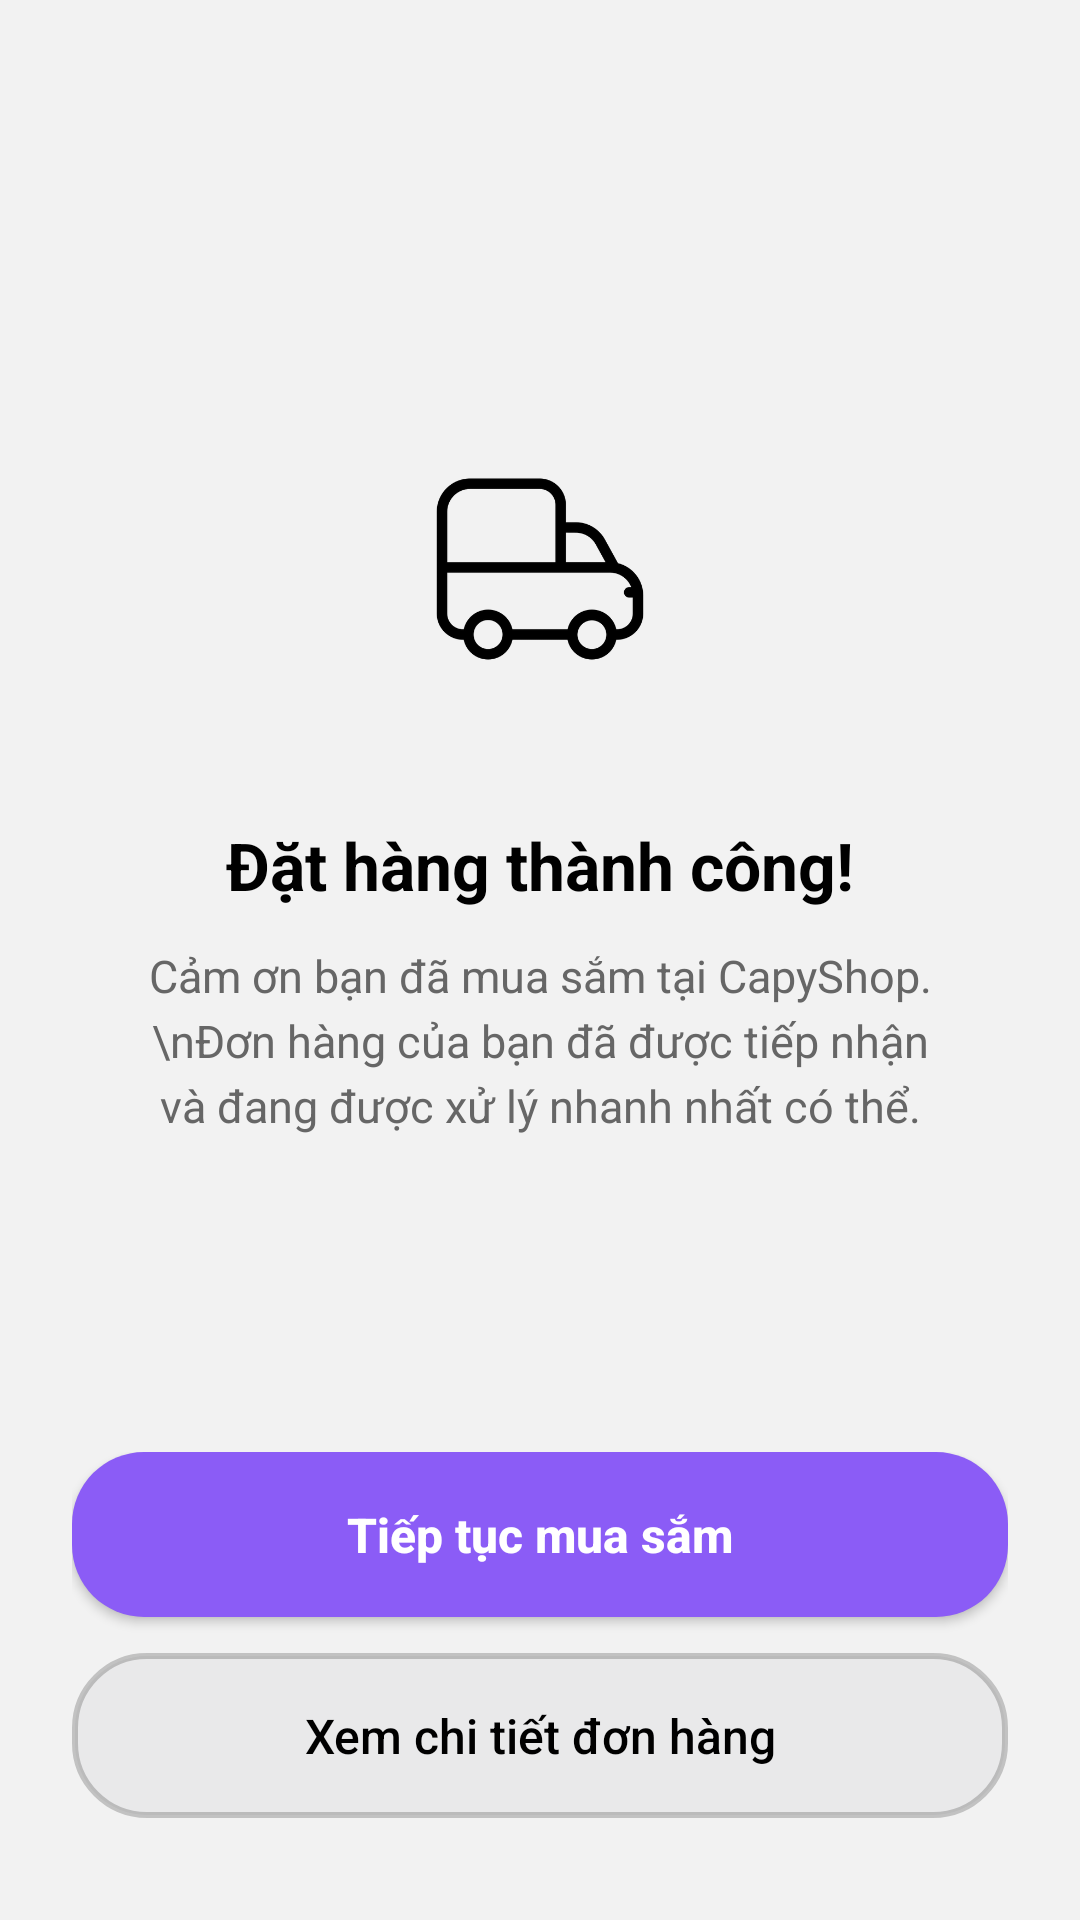

Named icons in this screenshot (1080w x 1920h) and their bounding boxes, {"x1": x1, "y1": y1, "x2": x2, "y2": y2}:
dang giao hang: {"x1": 436, "y1": 478, "x2": 644, "y2": 660}
